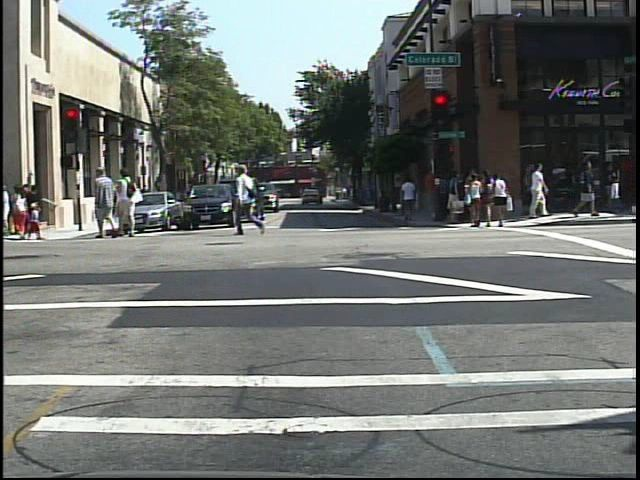person: (232, 160, 265, 239), (92, 163, 117, 239), (116, 167, 140, 239), (10, 178, 34, 244)
